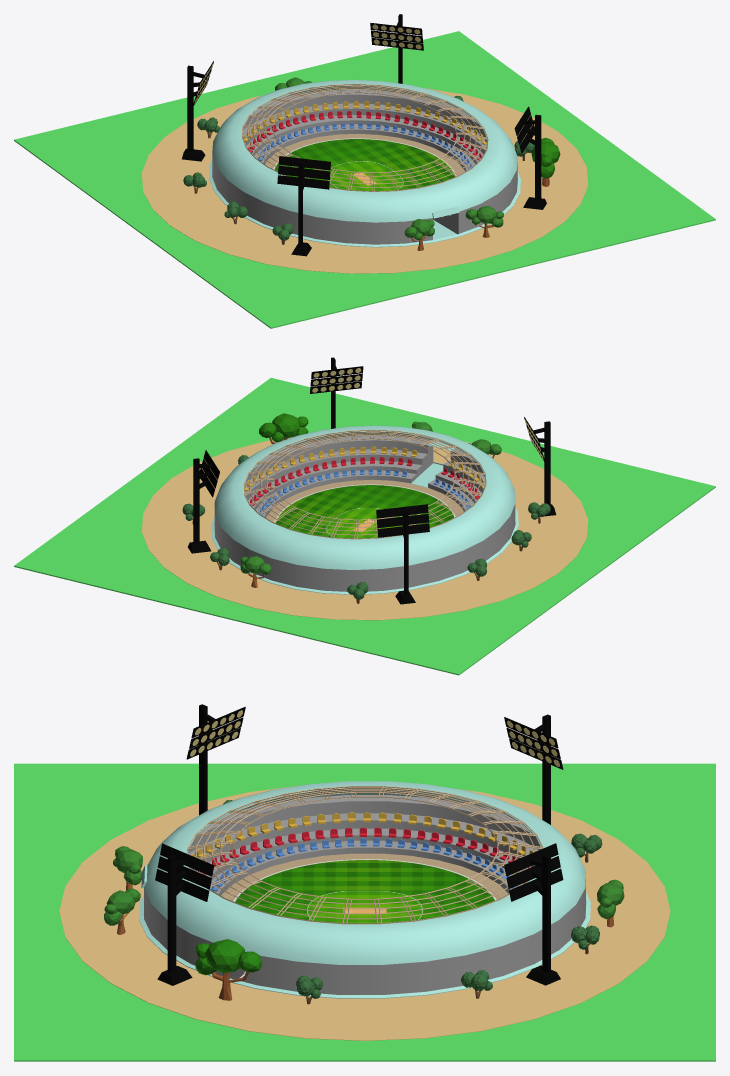
Rendered from cricket stadium.fbx.
The picture shows the model from 3 angles, top to bottom: view 1: azimuth 30°, elevation 25°; view 2: azimuth 150°, elevation 25°; view 3: azimuth 270°, elevation 25°; orthographic projection. The views are drawn at different scales.
Visible parts, largest first — view 1: Plane.013, Circle.005, Circle.001, Circle, Circle.021, Cube.002, Cube.001, Cube.004, Cube.006, Cube.021, Cube.005; view 2: Plane.013, Circle.005, Circle.001, Circle, Circle.021, Cube.001, Cube.002, Cube.003, Cube.006, Cube.005, Cube.021, Icosphere; view 3: Plane.013, Circle.005, Circle.001, Circle, Circle.021, Cube.002, Cube.004, Cube.001, Cube.003, Cube.006, Icosphere, Cube.005 (+3 smaller).
Part boxes in pixels (bbox=[...]): Plane.013: bbox=[14, 31, 715, 328]; Circle.005: bbox=[209, 79, 520, 247]; Circle.001: bbox=[141, 88, 588, 273]; Circle: bbox=[274, 139, 455, 190]; Circle.021: bbox=[241, 83, 488, 191]; Cube.002: bbox=[243, 101, 487, 147]; Cube.001: bbox=[248, 111, 481, 160]; Cube.004: bbox=[523, 114, 546, 209]; Cube.006: bbox=[257, 122, 472, 168]; Cube.021: bbox=[182, 65, 205, 161]; Cube.005: bbox=[291, 161, 311, 256]; Plane.013: bbox=[14, 378, 715, 675]; Circle.005: bbox=[211, 425, 518, 594]; Circle.001: bbox=[141, 437, 588, 620]; Circle: bbox=[276, 485, 454, 538]; Circle.021: bbox=[243, 429, 486, 539]; Cube.001: bbox=[250, 456, 479, 505]; Cube.002: bbox=[244, 446, 484, 493]; Cube.003: bbox=[188, 458, 211, 553]; Cube.006: bbox=[259, 468, 470, 515]; Cube.005: bbox=[533, 421, 556, 516]; Cube.021: bbox=[395, 509, 415, 604]; Icosphere: bbox=[272, 413, 300, 438]; Plane.013: bbox=[14, 763, 715, 1061]; Circle.005: bbox=[139, 781, 590, 998]; Circle.001: bbox=[59, 785, 670, 1040]; Circle: bbox=[235, 860, 494, 923]; Circle.021: bbox=[187, 786, 543, 924]; Cube.002: bbox=[191, 812, 535, 865]; Cube.004: bbox=[157, 855, 192, 985]; Cube.001: bbox=[198, 827, 531, 874]; Cube.003: bbox=[526, 854, 560, 985]; Cube.006: bbox=[210, 838, 518, 891]; Icosphere: bbox=[204, 939, 245, 972]; Cube.005: bbox=[199, 704, 215, 815].
Size of the model in its own units: 4629 by 918 by 4629.
30 materials, 2 textured.
